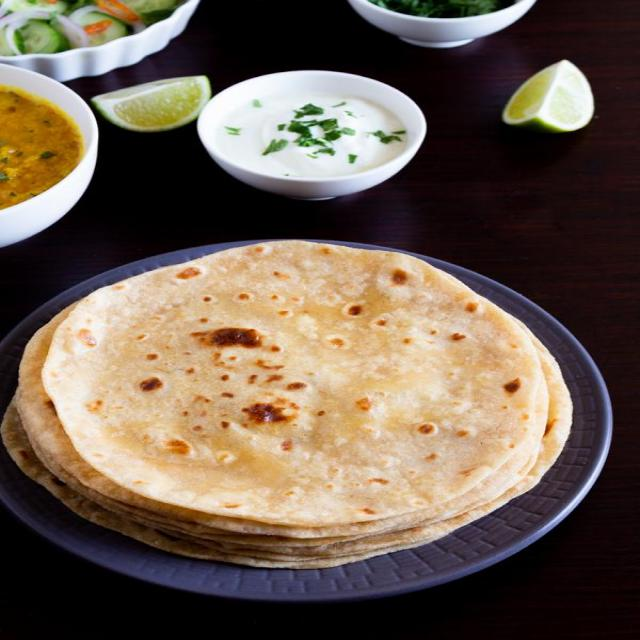roti: (5, 243, 563, 568)
